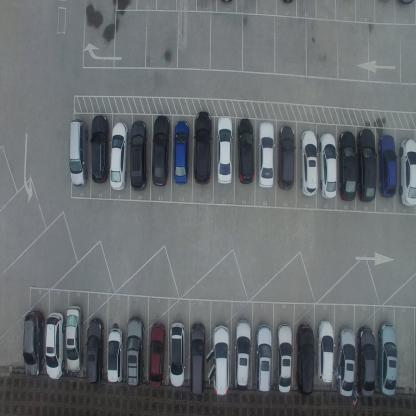car: (356, 127, 378, 202), (377, 323, 398, 397), (22, 308, 44, 376), (125, 315, 145, 389), (44, 311, 65, 380), (356, 327, 376, 398), (338, 131, 358, 202), (90, 113, 110, 184), (151, 114, 170, 188), (68, 118, 88, 188), (336, 327, 356, 396), (211, 324, 230, 396), (233, 318, 251, 392), (296, 322, 314, 396), (193, 109, 211, 183), (299, 130, 319, 196), (275, 321, 293, 394), (110, 119, 128, 192), (318, 130, 337, 199), (85, 316, 104, 385), (398, 136, 416, 208), (129, 120, 147, 192), (66, 303, 84, 374), (236, 118, 255, 185), (148, 320, 166, 390), (255, 323, 273, 393), (189, 321, 205, 397), (378, 133, 397, 197), (277, 125, 295, 192), (217, 114, 233, 186), (168, 322, 185, 389), (317, 319, 334, 386), (258, 121, 274, 190), (106, 326, 124, 384), (172, 119, 188, 183)
